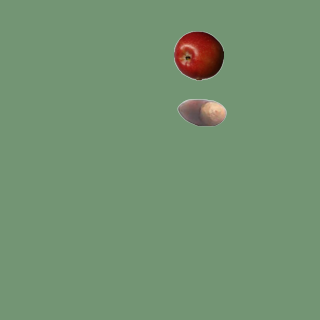Apple Braeburn: (173, 30, 223, 80)
Hazelnut: (176, 87, 226, 137)
